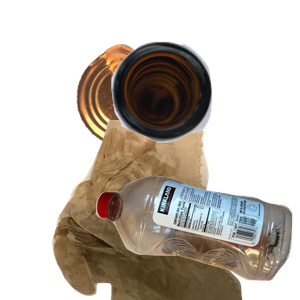glass: (109, 39, 300, 175)
metal: (74, 41, 229, 181)
plastic: (93, 173, 300, 300)
trash: (50, 120, 285, 300)
